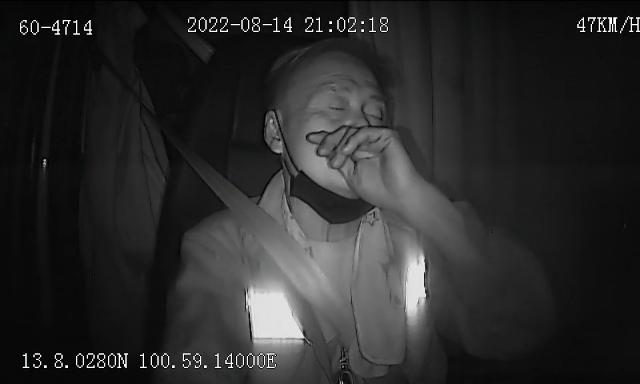Seatbelt: (154, 120, 362, 356)
